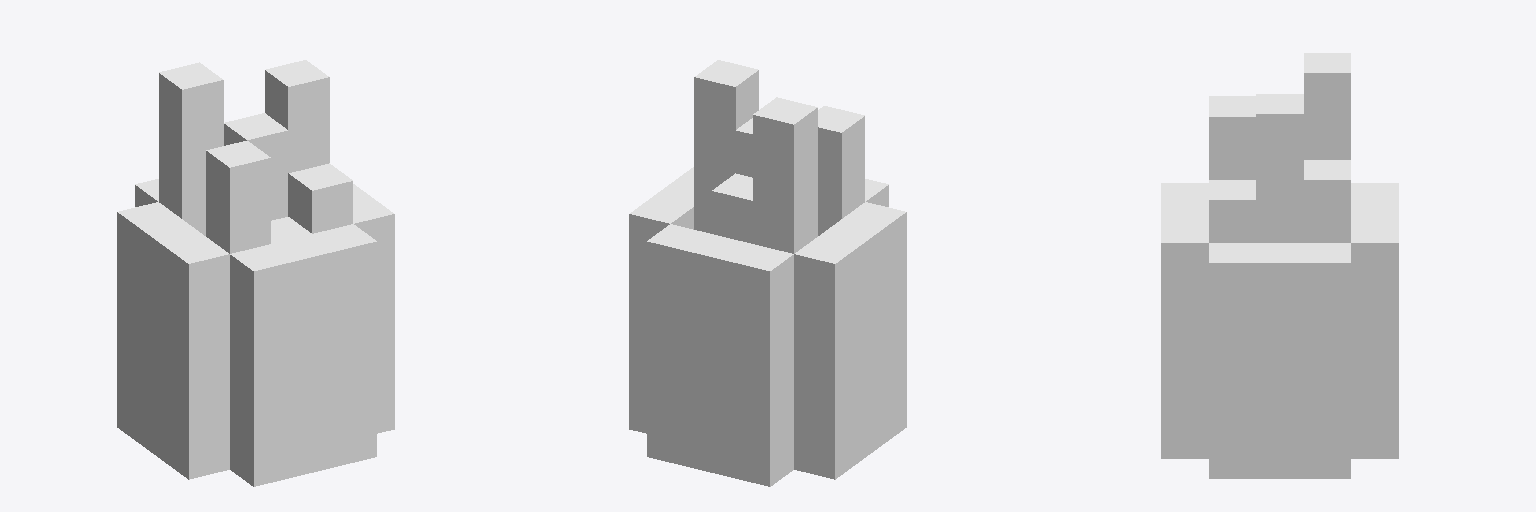
File: porte_crayons.obj
3 renders of one model, left to right at view 1: azimuth 30°, elevation 25°; view 2: azimuth 150°, elevation 25°; view 3: azimuth 270°, elevation 25°, orthographic.
Parts seen in each view (by area): view 1: object 1; view 2: object 1; view 3: object 1.
Boxes of the visible parts, x1,y1,x2,y2 form: object 1: [117, 60, 394, 486]; object 1: [629, 60, 906, 486]; object 1: [1161, 53, 1398, 478].
Bounding box in the file's own units: 0.5 × 0.8 × 0.5.